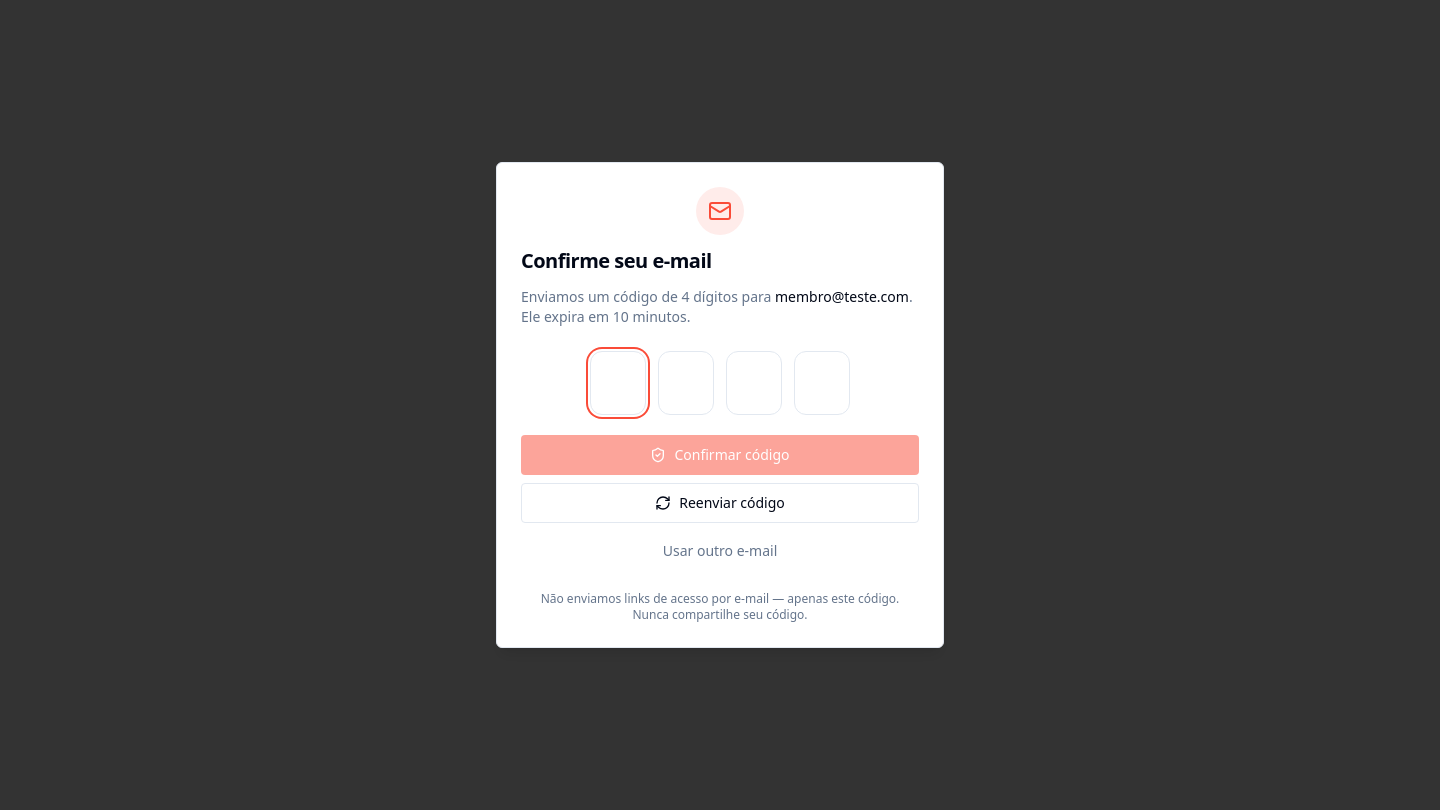
EmailCodeVerificationModal › reenvia o código respeitando o cooldown
This screenshot has width=1440, height=810.
Click the button "Reenviar código".
click(720, 503)  # box [521,483,919,523]
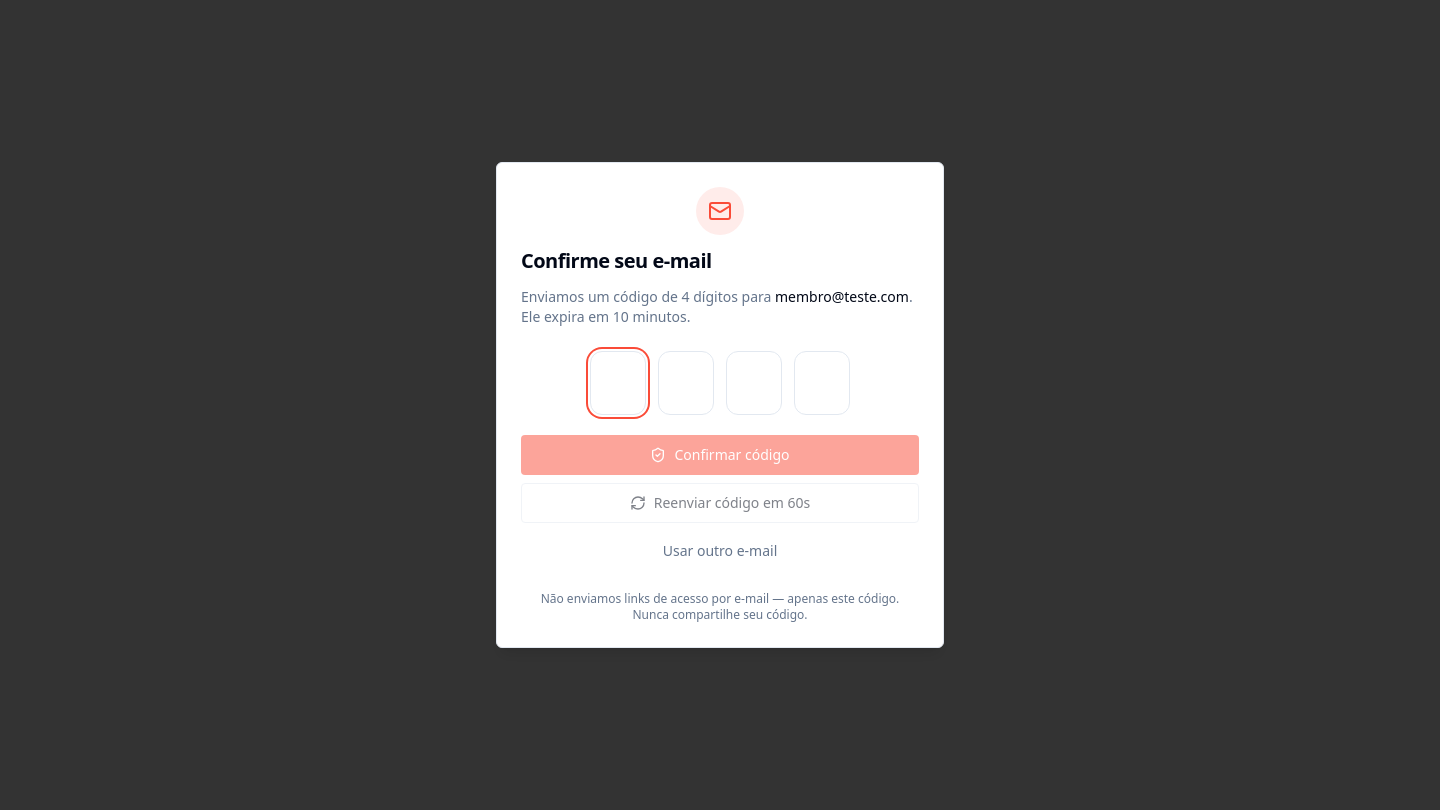
Expected: the button "Reenviar código em 60s" is disabled, [521,483,919,523]
